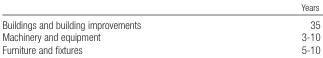table: (1, 1, 319, 55)
table column: (1, 1, 220, 55), (220, 1, 319, 55)
table column header: (1, 1, 319, 14)
table row: (1, 14, 319, 30), (1, 1, 319, 14), (1, 42, 319, 55), (1, 30, 319, 42)
